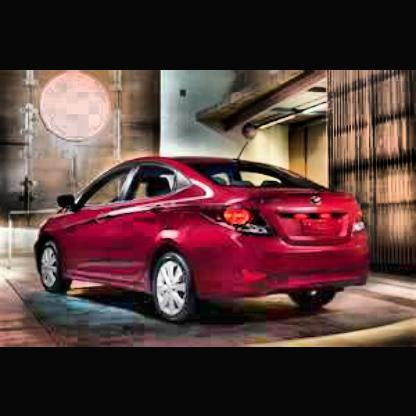Hyundai Accent Sedan 2012: (33, 142, 375, 330)
